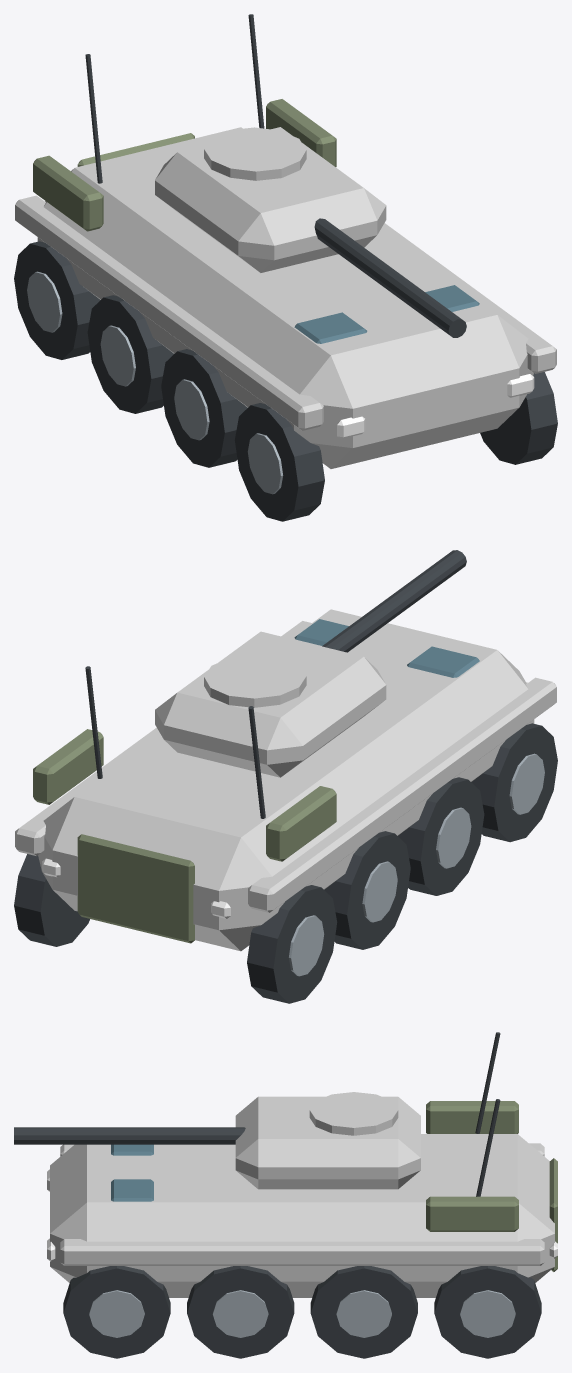
File: apc.glb
3 renders of one model, top to bottom at view 1: azimuth 30°, elevation 25°; view 2: azimuth 150°, elevation 25°; view 3: azimuth 270°, elevation 25°, orthographic. The views are drawn at different scales.
Visible parts, largest first — view 1: body, trim, head; view 2: body, trim, tail; view 3: body, trim.
Boxes of the visible parts, x1=… form: body: x1=15, y1=127, x2=556, y2=468; trim: x1=14, y1=14, x2=557, y2=521; head: x1=337, y1=374, x2=534, y2=439; body: x1=15, y1=609, x2=556, y2=951; trim: x1=14, y1=550, x2=557, y2=1003; tail: x1=42, y1=858, x2=230, y2=918; body: x1=50, y1=1092, x2=554, y2=1297; trim: x1=14, y1=1032, x2=557, y2=1358.
Size of the model in its own units: 2.67 by 2.75 by 5.67.
